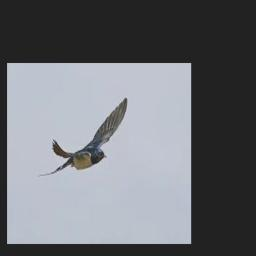Swallow: (39, 96, 128, 178)
